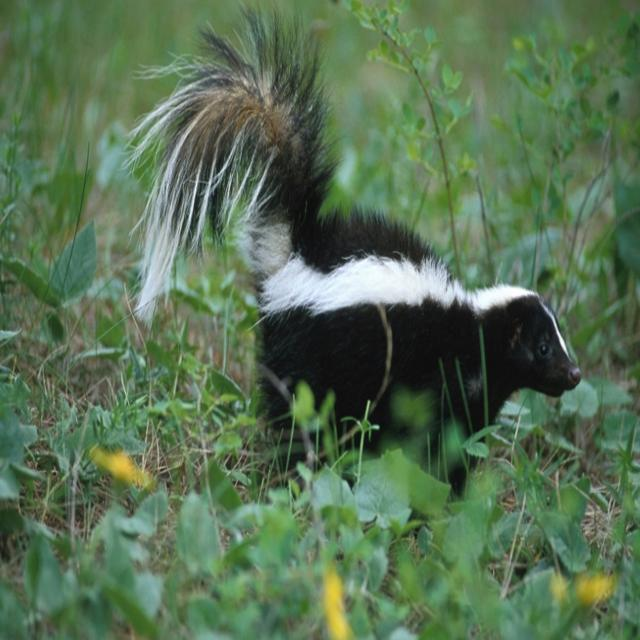Skunk: (132, 26, 592, 458)
